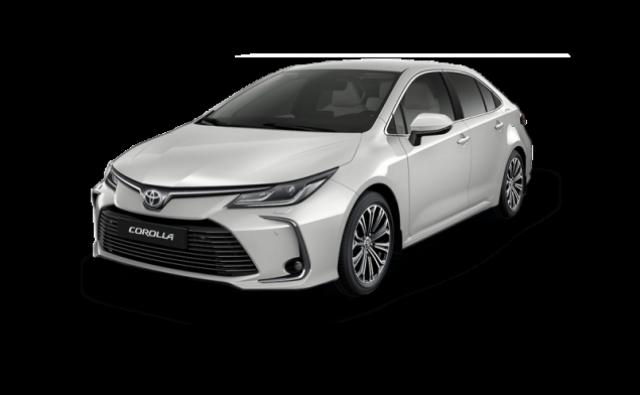toyota: (91, 62, 533, 296)
